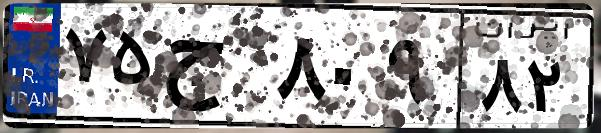0: (330, 28, 385, 110)
2: (525, 38, 570, 115)
5: (110, 28, 158, 98)
7: (57, 26, 110, 100)
8: (270, 28, 330, 110), (475, 38, 525, 113)
9: (385, 28, 445, 110)
ج: (158, 20, 270, 120)
